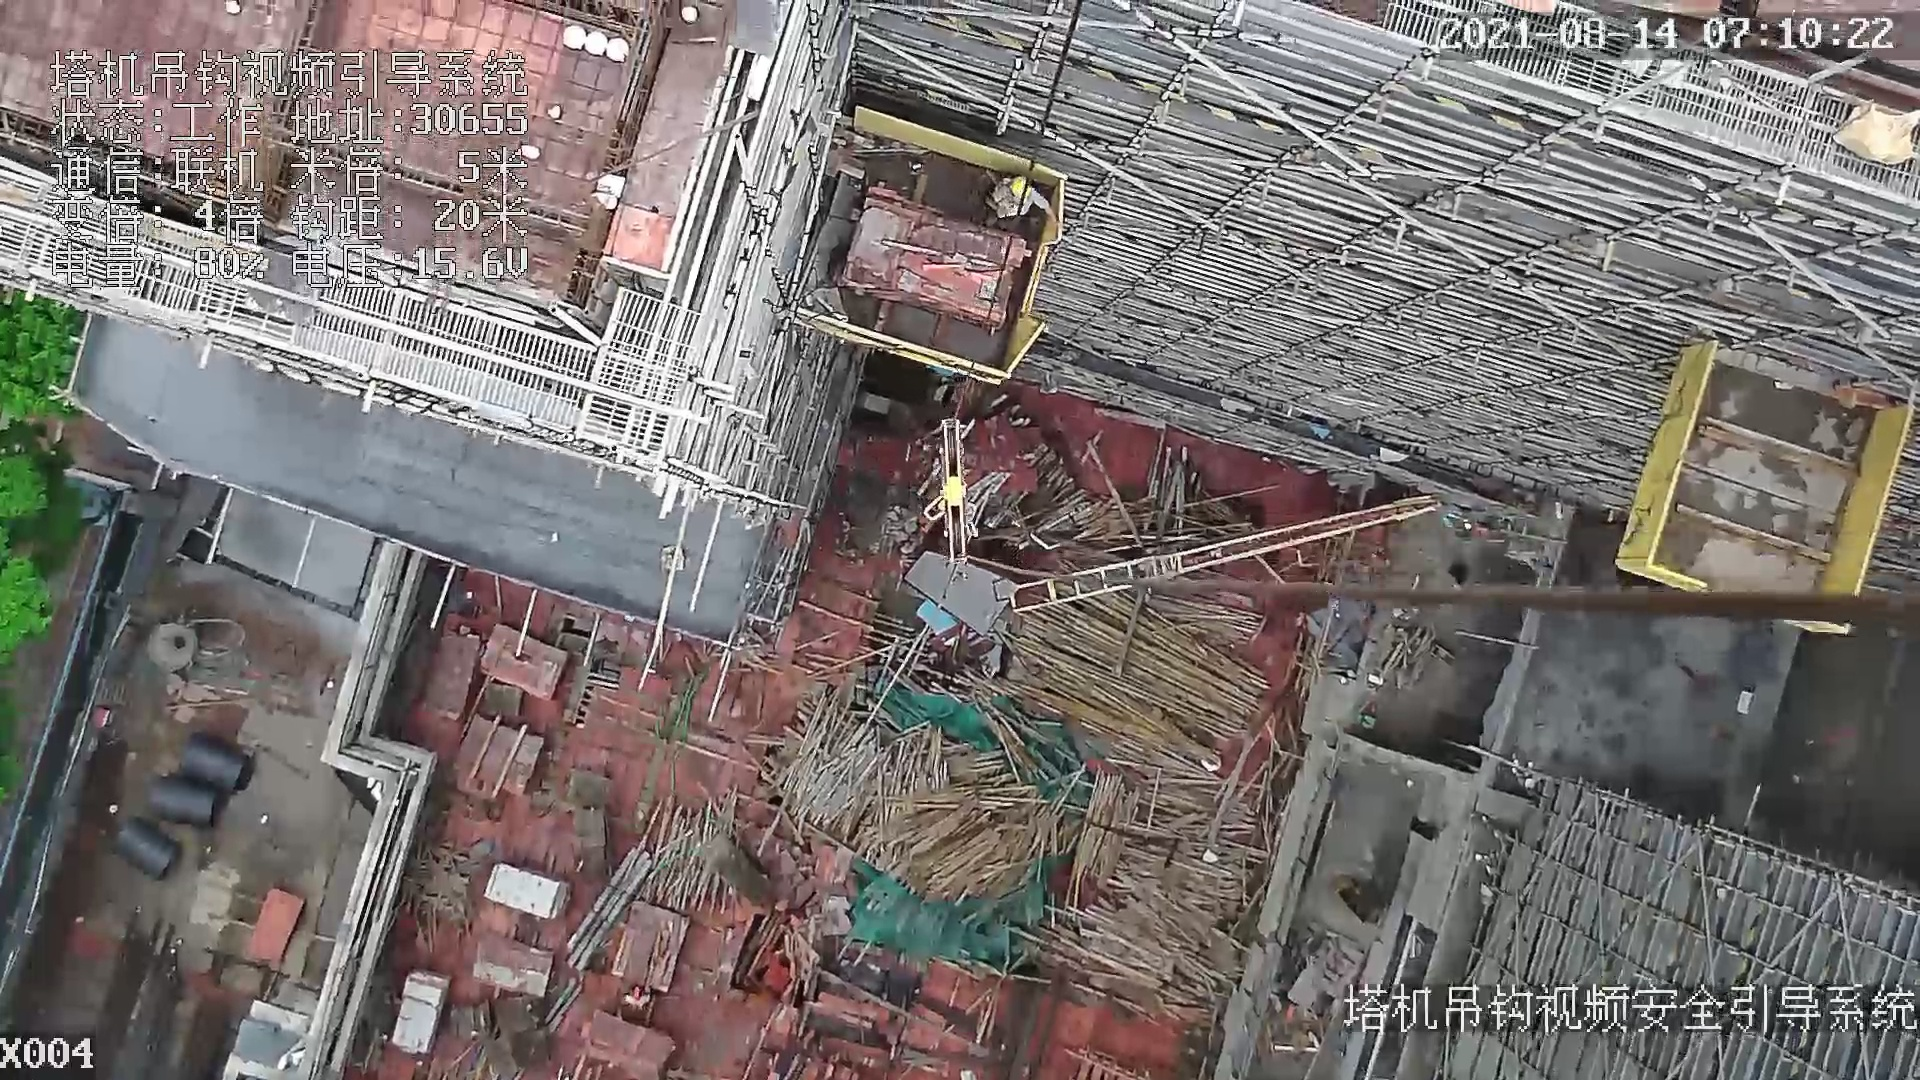helmet: (1012, 175, 1033, 201), (631, 987, 643, 999)
hook: (920, 410, 973, 567)
person: (982, 168, 1061, 232), (623, 984, 653, 1015)
